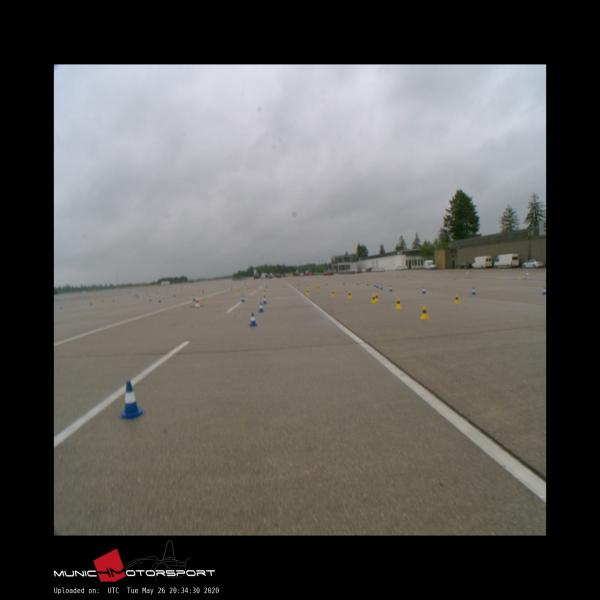blue_cone: (120, 381, 146, 418), (248, 313, 257, 326), (259, 302, 264, 312), (263, 296, 267, 304), (472, 287, 476, 295), (542, 286, 546, 294), (241, 295, 245, 302), (422, 287, 426, 294)
yellow_cone: (421, 305, 430, 319), (396, 298, 402, 309), (454, 294, 460, 304), (371, 295, 377, 303), (374, 293, 378, 301), (348, 290, 352, 298), (332, 290, 335, 296)
